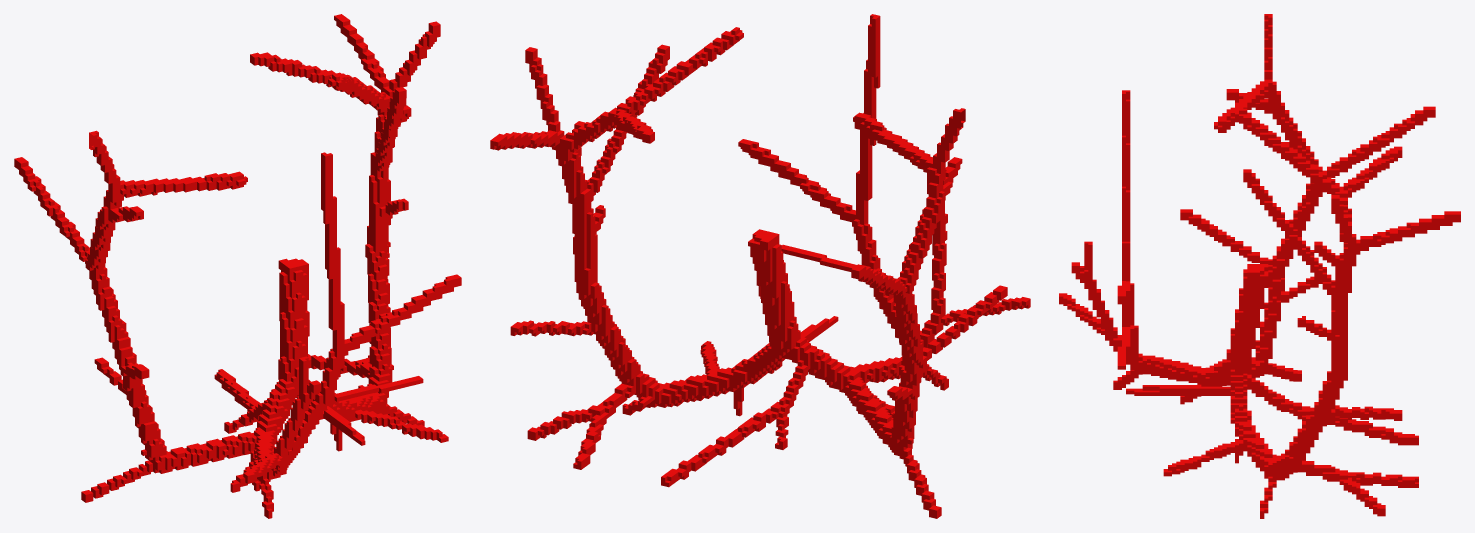
The model's file is ref.obj.
The picture shows the model from 3 angles, left to right: view 1: azimuth 30°, elevation 25°; view 2: azimuth 150°, elevation 25°; view 3: azimuth 270°, elevation 25°; orthographic projection. The views are drawn at different scales.
Parts seen in each view (by area): view 1: anObject; view 2: anObject; view 3: anObject.
Part boxes in pixels (box(x1,y1,x2,y2)): anObject: box(14, 14, 461, 518); anObject: box(490, 14, 1030, 518); anObject: box(1059, 14, 1460, 518).
Size of the model in its own units: 100 by 98 by 96.
